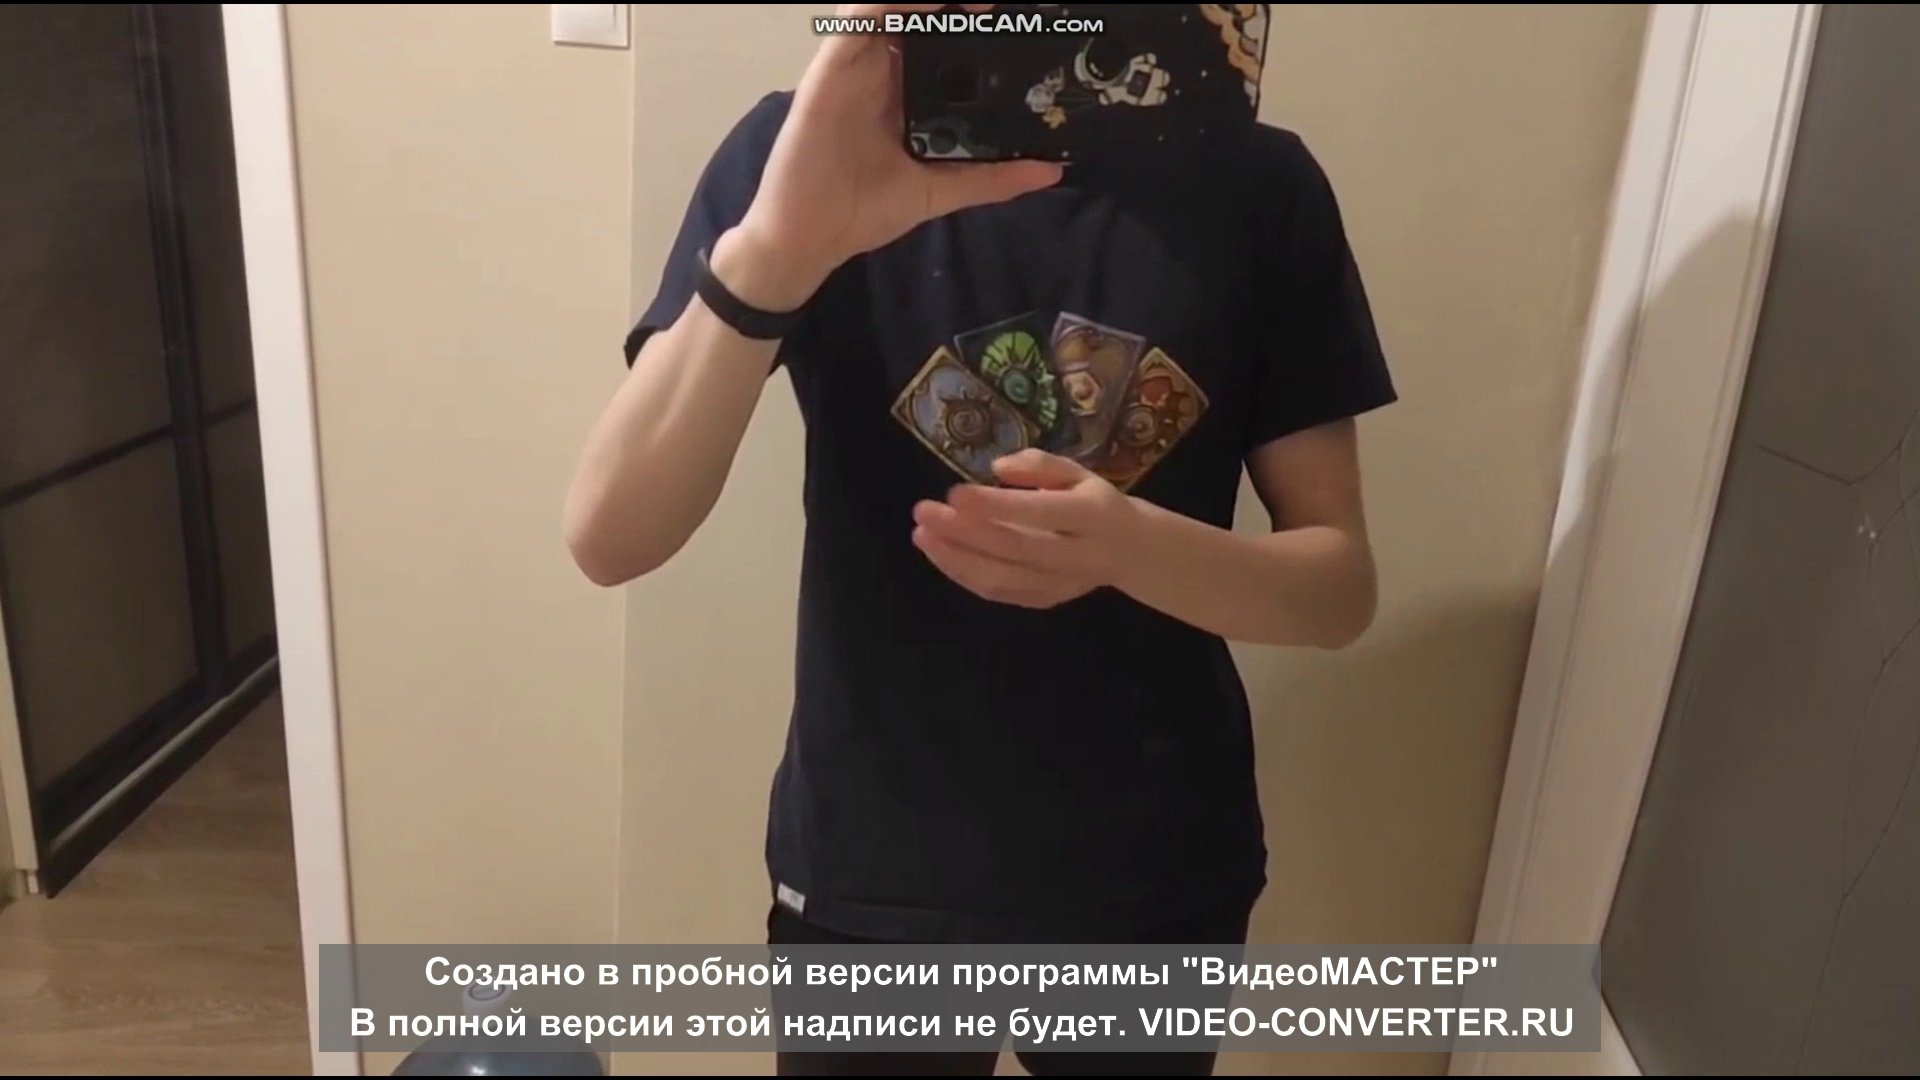Кисть: (913, 447, 1121, 607)
